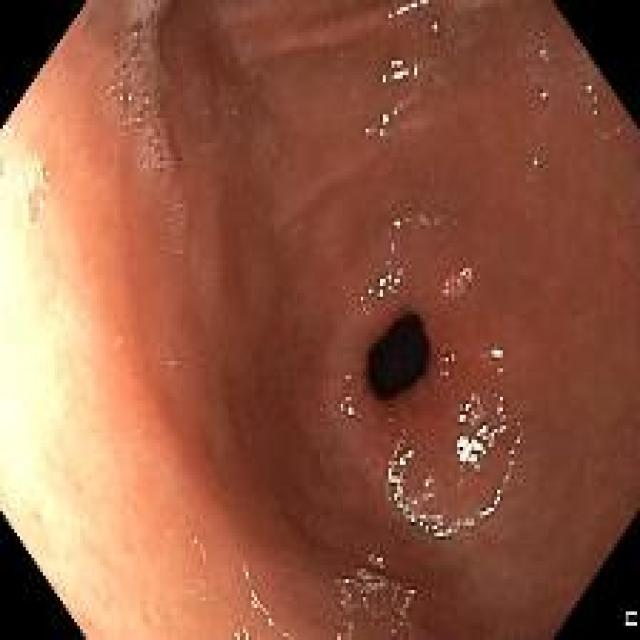bubbles: (130, 91, 174, 174), (129, 11, 156, 64), (26, 167, 50, 223), (106, 63, 134, 106), (535, 45, 553, 63), (579, 77, 594, 97), (428, 19, 442, 38), (167, 355, 180, 373), (390, 106, 403, 123), (437, 351, 455, 363), (171, 198, 185, 212), (243, 65, 254, 79), (437, 367, 450, 378), (264, 144, 275, 157), (201, 106, 210, 120), (226, 104, 237, 115), (174, 248, 182, 257)
contrast: (365, 310, 430, 401)
saturation: (1, 96, 122, 622)
specularity: (396, 495, 472, 540), (453, 424, 500, 473), (382, 446, 419, 498), (475, 483, 505, 521), (459, 393, 482, 426), (493, 390, 510, 434), (376, 271, 398, 299), (389, 58, 409, 82), (506, 446, 517, 466), (491, 345, 503, 358), (379, 71, 389, 84), (379, 112, 390, 123), (512, 433, 522, 445), (411, 64, 419, 78), (363, 286, 375, 295), (346, 407, 356, 416), (376, 127, 384, 138), (393, 220, 402, 229), (459, 267, 467, 276), (431, 23, 438, 33), (338, 400, 345, 409), (586, 84, 593, 91), (409, 589, 415, 593)
